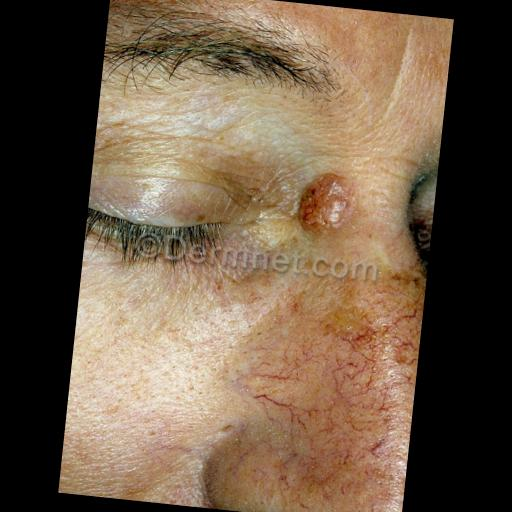Skin_Lesion: (292, 165, 353, 248), (326, 294, 398, 359)
